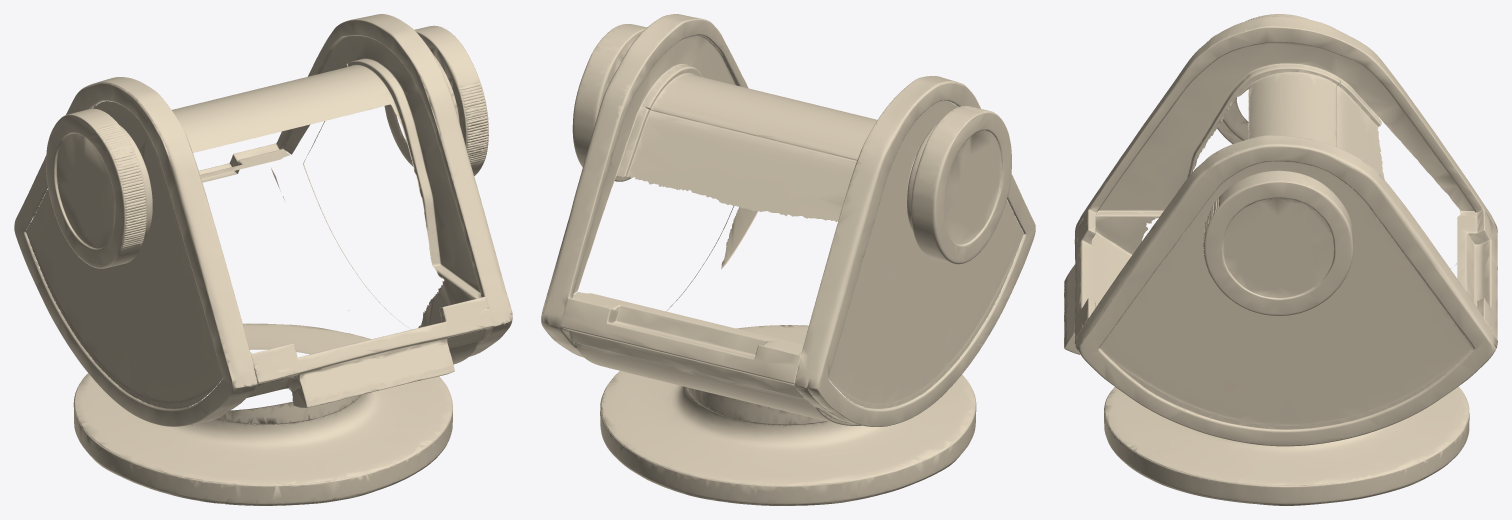
The model's file is housing.glb.
3 renders of one model, left to right at view 1: azimuth 30°, elevation 25°; view 2: azimuth 150°, elevation 25°; view 3: azimuth 270°, elevation 25°, orthographic. The views are drawn at different scales.
Parts seen in each view (by area): view 1: base, frame, side_left_inner, side_right, knob_left, rod, knob_right, cradle; view 2: base, frame, rod, side_left_inner, side_right, knob_left, cradle, knob_right; view 3: side_right_inner, frame, side_right, base, knob_right, rod, knob_left.
Boxes of the visible parts, left/top/right/bottom form: base: left=73, top=323, right=452, bottom=505; frame: left=14, top=77, right=492, bottom=426; side_left_inner: left=26, top=101, right=222, bottom=408; side_right: left=271, top=14, right=512, bottom=356; knob_left: left=46, top=108, right=152, bottom=268; rod: left=172, top=59, right=407, bottom=152; knob_right: left=384, top=25, right=488, bottom=175; cradle: left=127, top=310, right=478, bottom=425; base: left=600, top=325, right=976, bottom=505; frame: left=561, top=76, right=1035, bottom=426; rod: left=617, top=65, right=877, bottom=221; side_left_inner: left=828, top=100, right=1023, bottom=408; side_right: left=541, top=14, right=758, bottom=357; knob_left: left=907, top=105, right=1011, bottom=264; cradle: left=575, top=343, right=922, bottom=425; knob_right: left=572, top=24, right=646, bottom=181; side_right_inner: left=1100, top=161, right=1472, bottom=429; frame: left=1064, top=16, right=1497, bottom=354; side_right: left=1074, top=135, right=1497, bottom=446; base: left=1104, top=386, right=1469, bottom=505; knob_right: left=1203, top=170, right=1353, bottom=315; rod: left=1240, top=63, right=1384, bottom=188; knob_left: left=1217, top=14, right=1308, bottom=143.
Size of the model in its own units: 0.7948 by 0.7695 by 0.8607.
